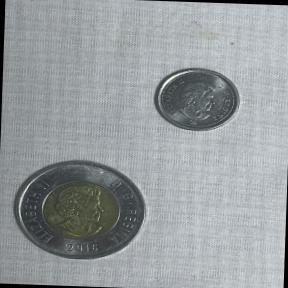coin: (5, 150, 153, 266), (150, 59, 244, 136)
